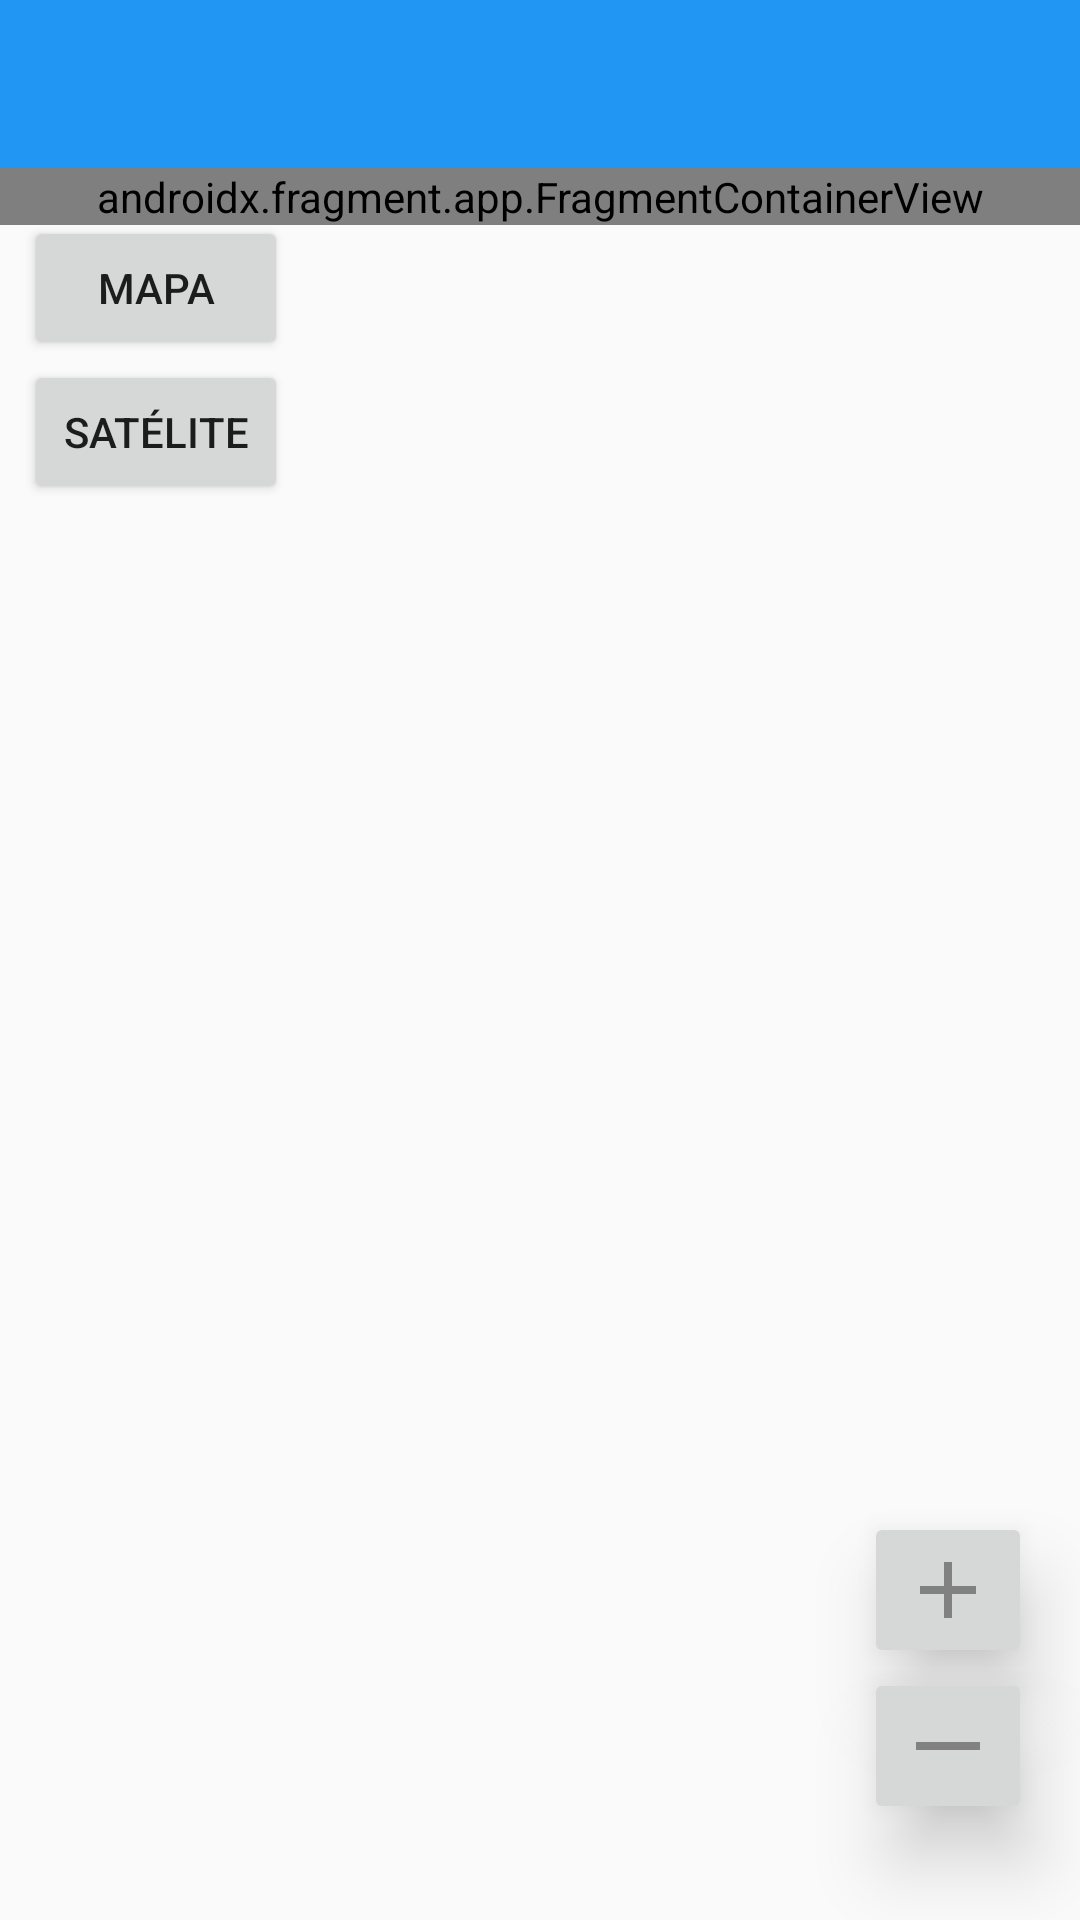

Icons on this 1080w x 1920h Android screen, each with its box as (x1, y1, x2, y2):
add: (876, 1530, 1026, 1668)
horizontal rule: (876, 1668, 1029, 1824)
